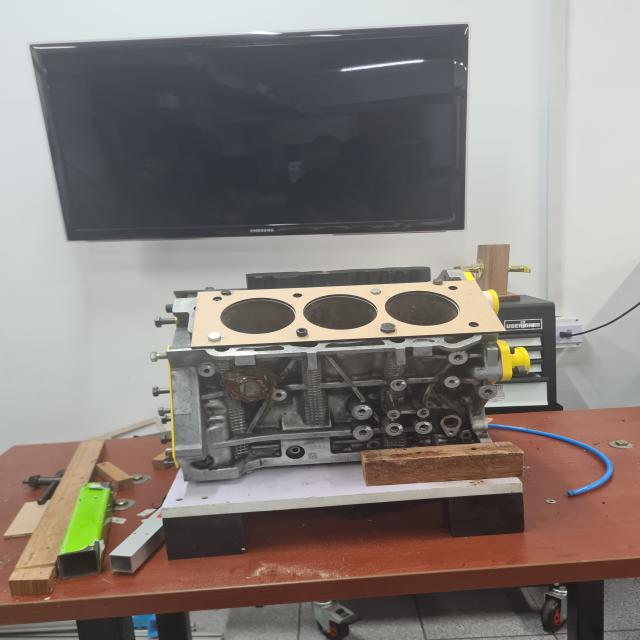vista1: (190, 280, 506, 346)
